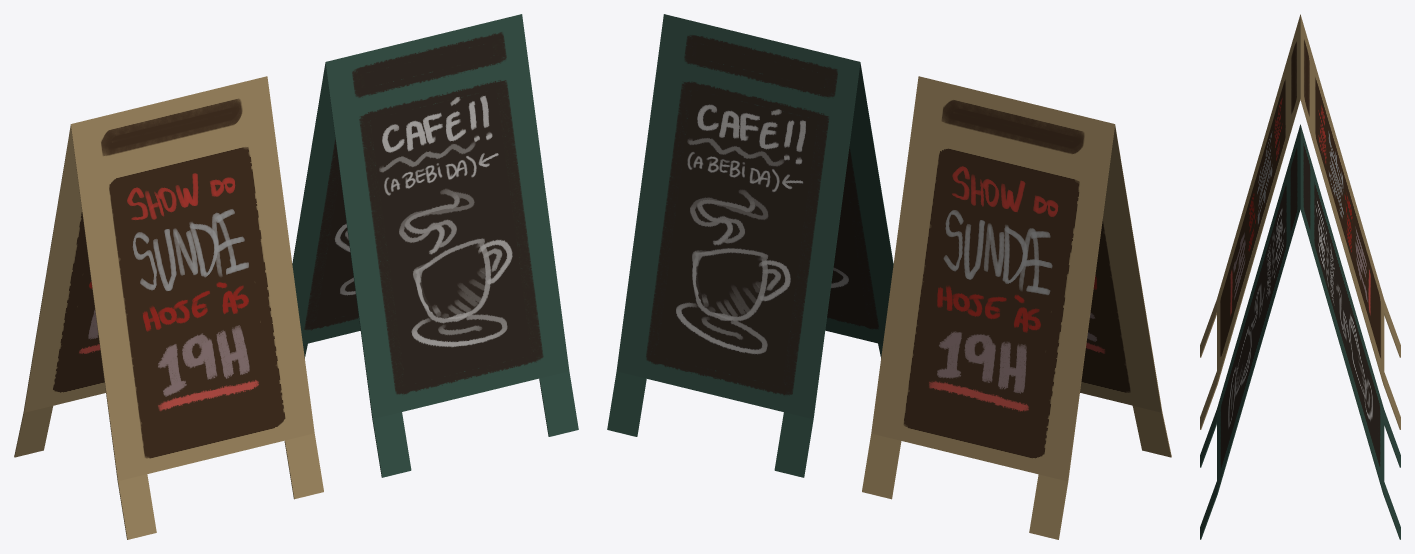
The model's file is placas.fbx.
3 renders of one model, left to right at view 1: azimuth 30°, elevation 25°; view 2: azimuth 150°, elevation 25°; view 3: azimuth 270°, elevation 25°, orthographic. The views are drawn at different scales.
Parts seen in each view (by area): view 1: Plane, Plane.001; view 2: Plane, Plane.001; view 3: Plane, Plane.001.
Boxes of the visible parts, x1,y1,x2,y2 form: Plane: (14, 76, 323, 539); Plane.001: (292, 14, 578, 477); Plane: (862, 76, 1171, 539); Plane.001: (607, 14, 893, 477); Plane: (1200, 14, 1400, 429); Plane.001: (1200, 124, 1400, 539).
Bounding box in the file's own units: 14.36 × 11.4 × 6.26.
